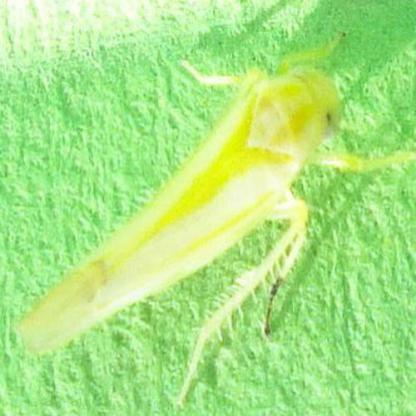green-leafhopper: (28, 61, 346, 359)
